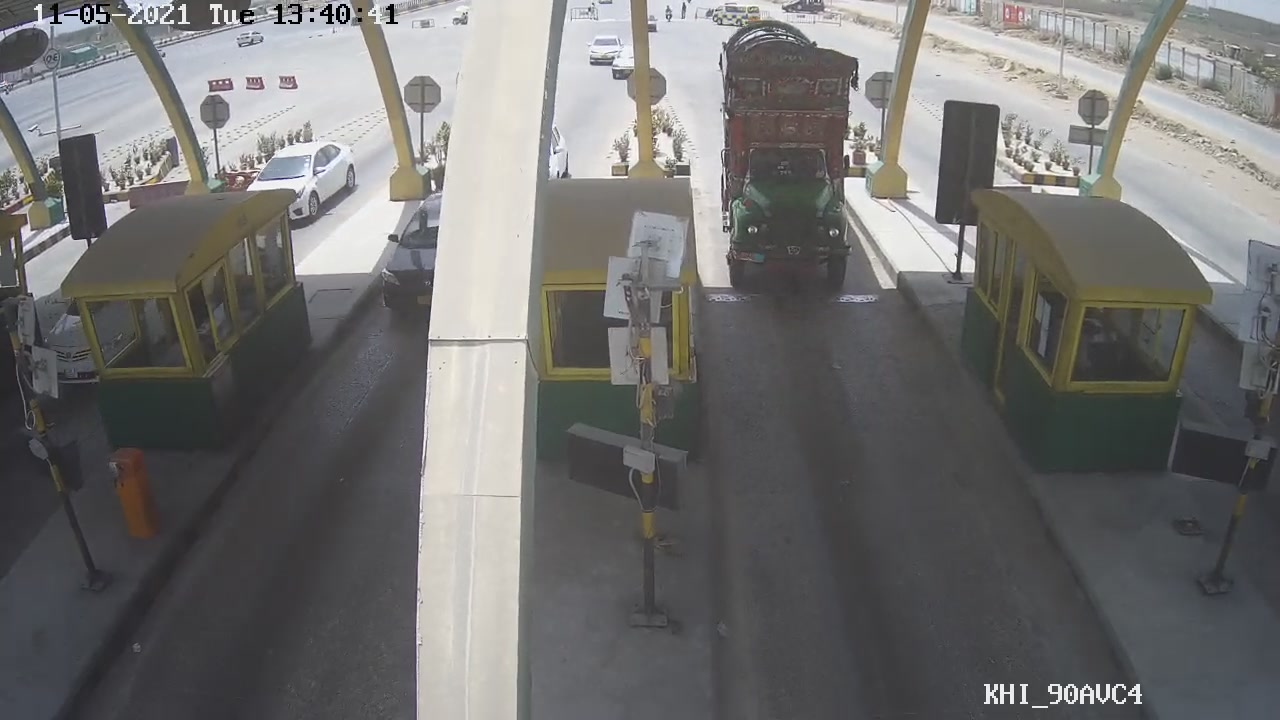F5: (697, 20, 881, 299)
